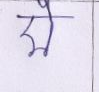ai_matra: (37, 0, 57, 16)
